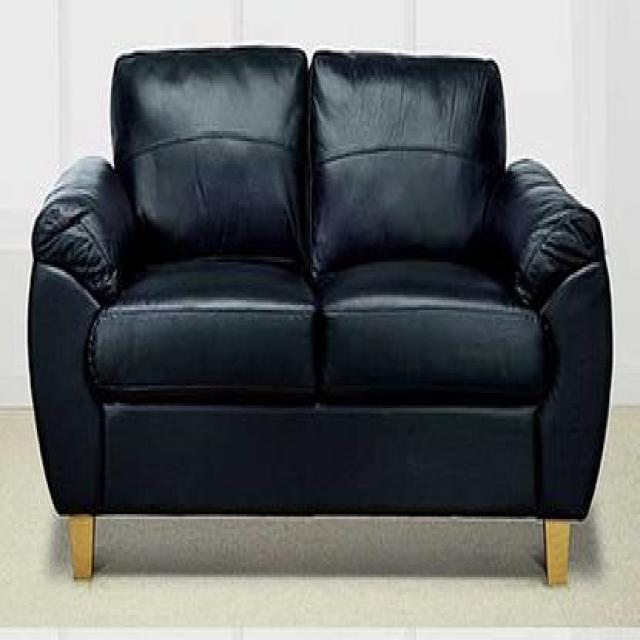sofa: (28, 48, 614, 587)
